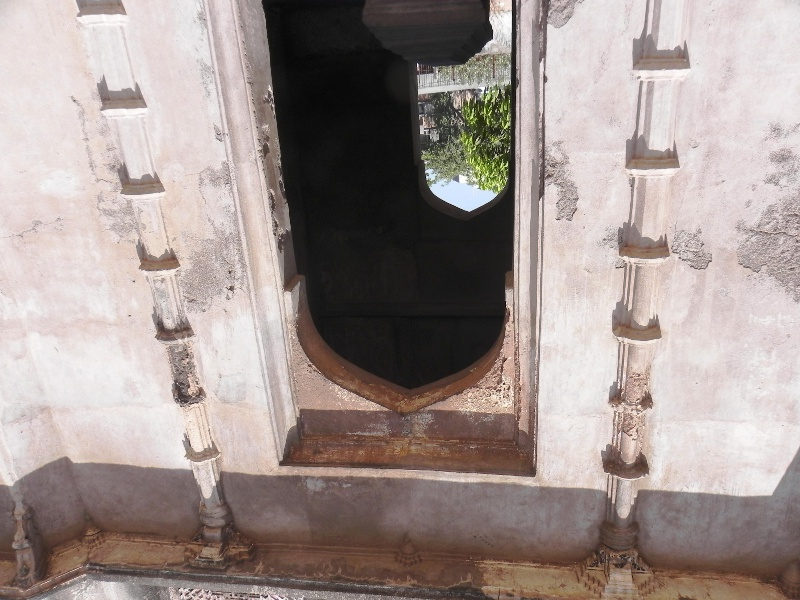Spalling: (743, 157, 800, 318), (534, 126, 584, 229), (157, 332, 202, 406)
